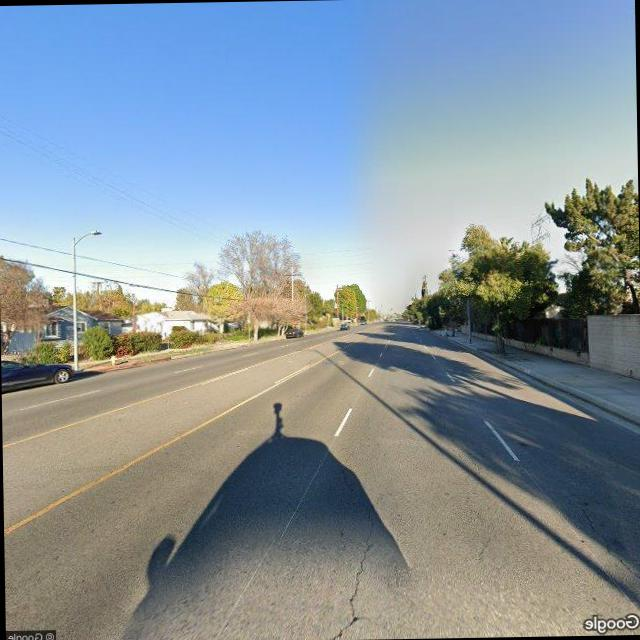crack: (310, 506, 386, 639)
